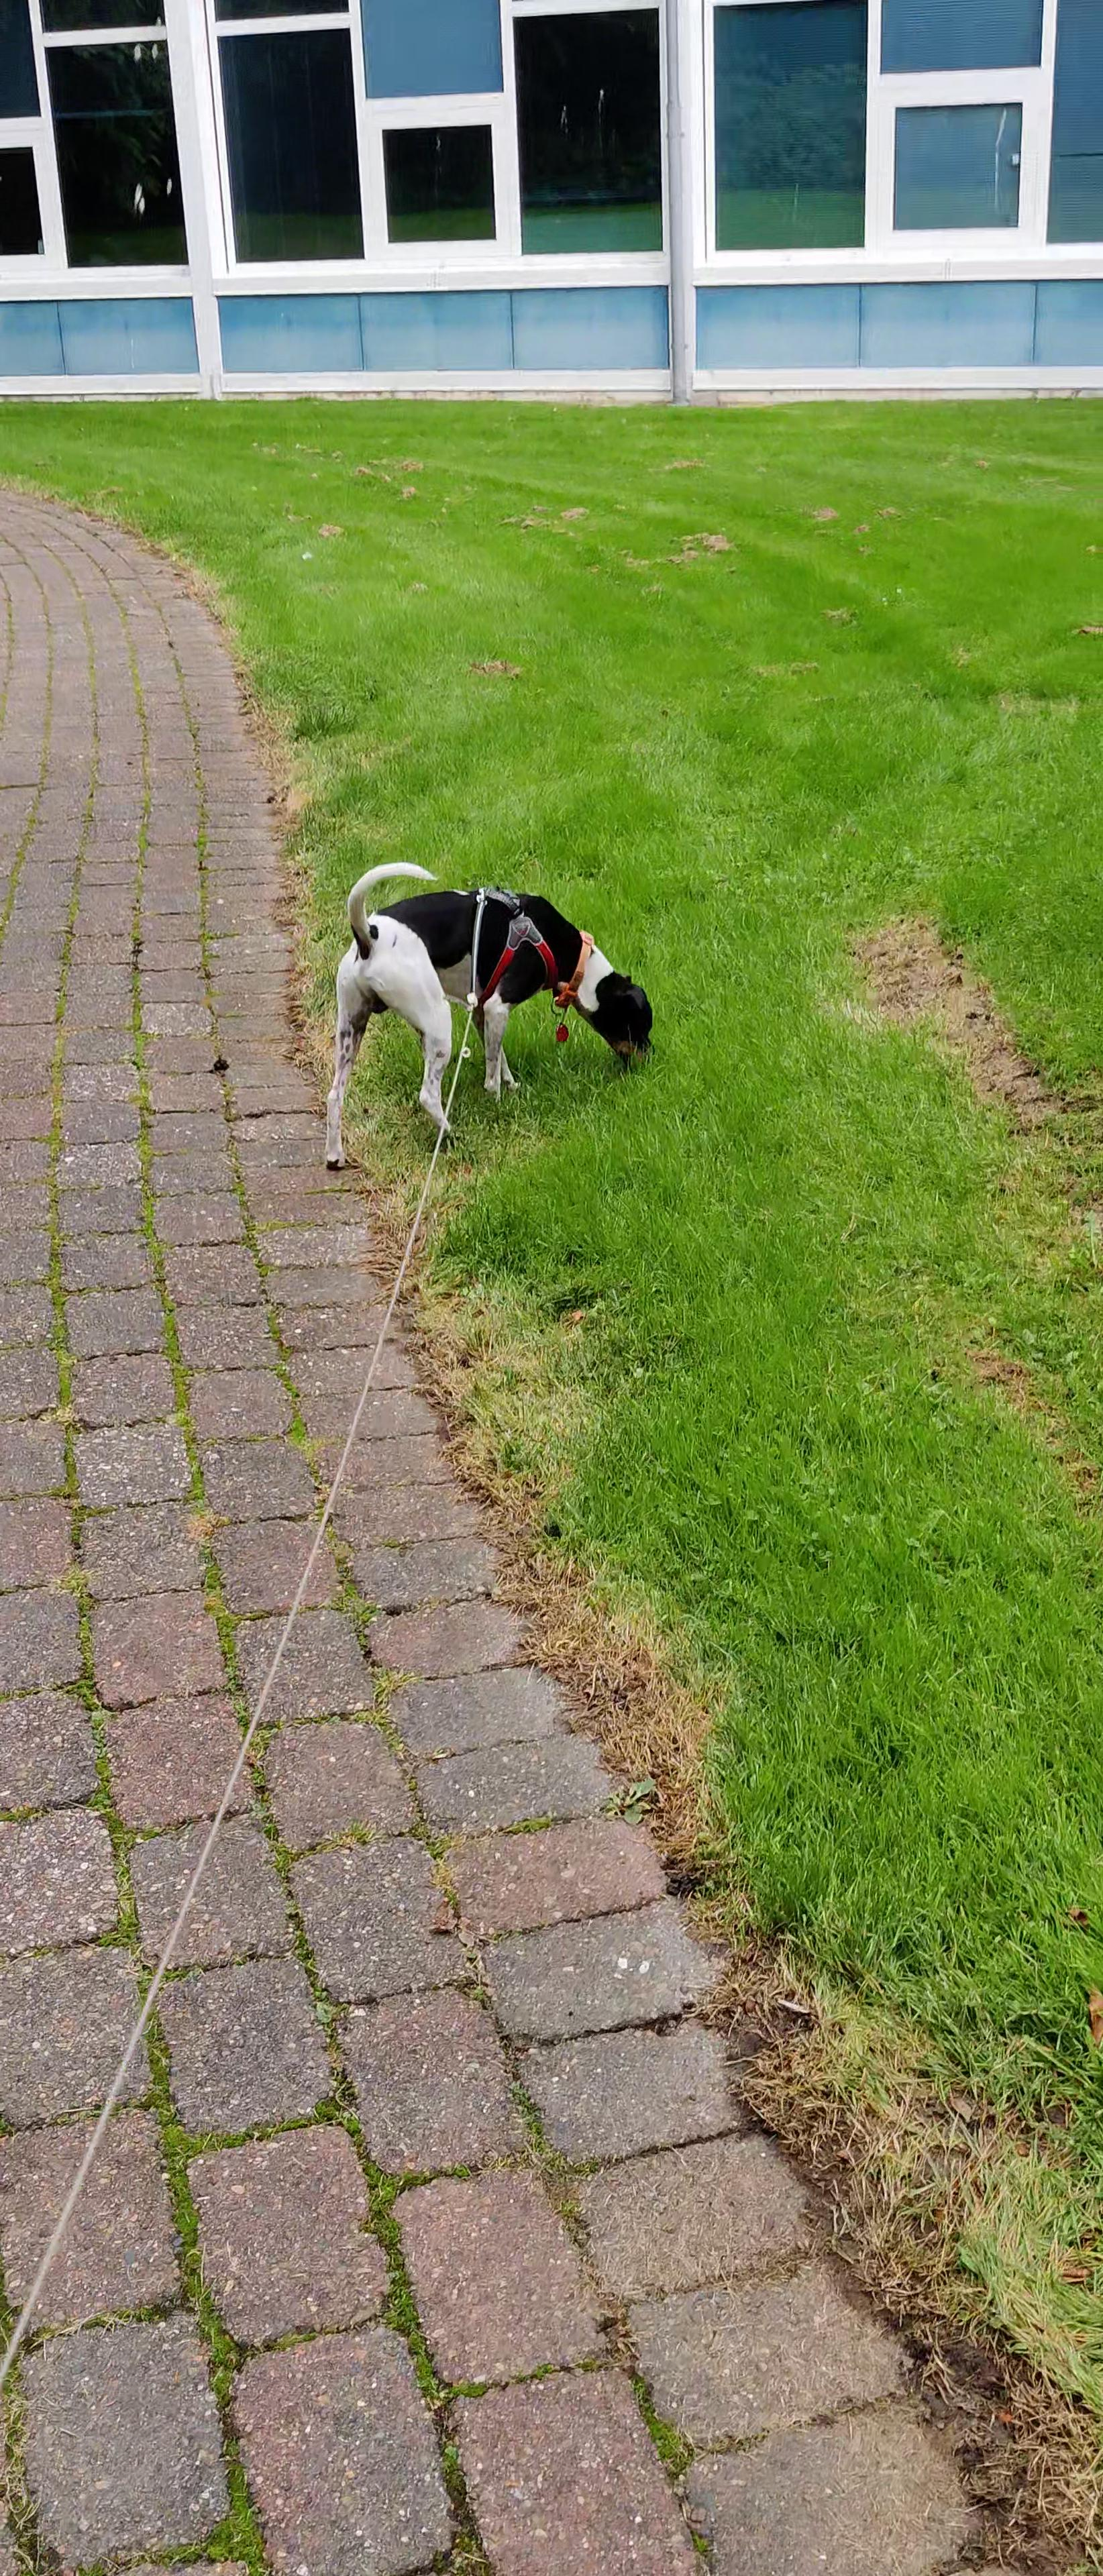Dog: (289, 843, 685, 1189)
